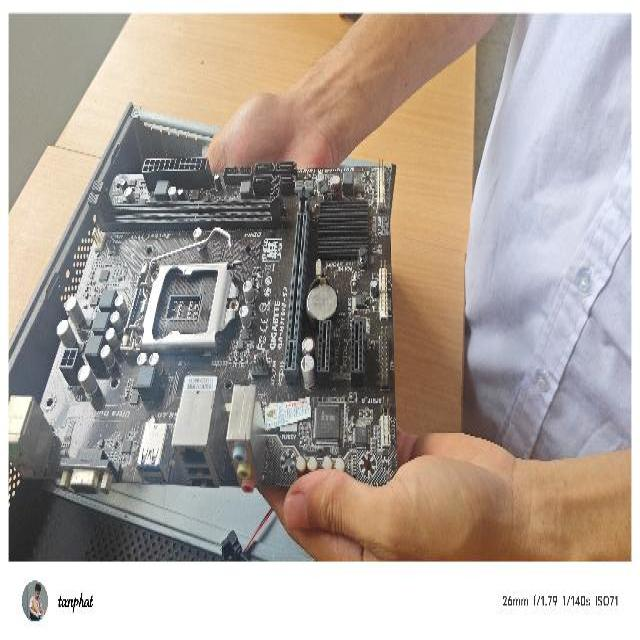Mainboard: (30, 153, 400, 489)
